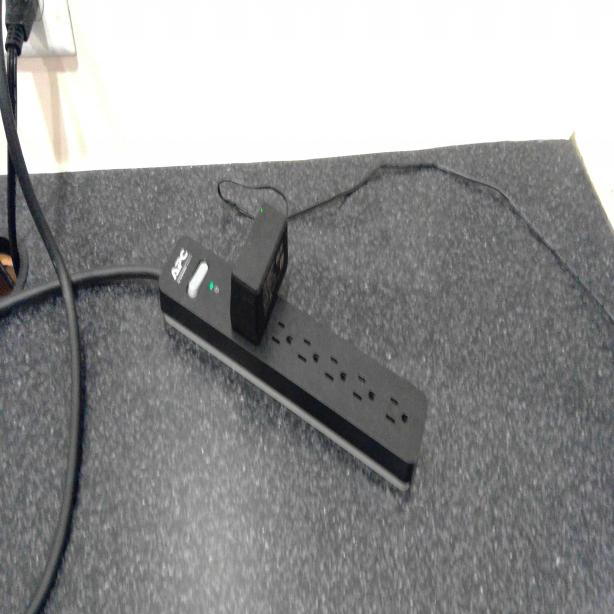typeb: (383, 391, 412, 434), (321, 349, 349, 392), (351, 369, 379, 410), (296, 329, 321, 374), (270, 314, 294, 356)
